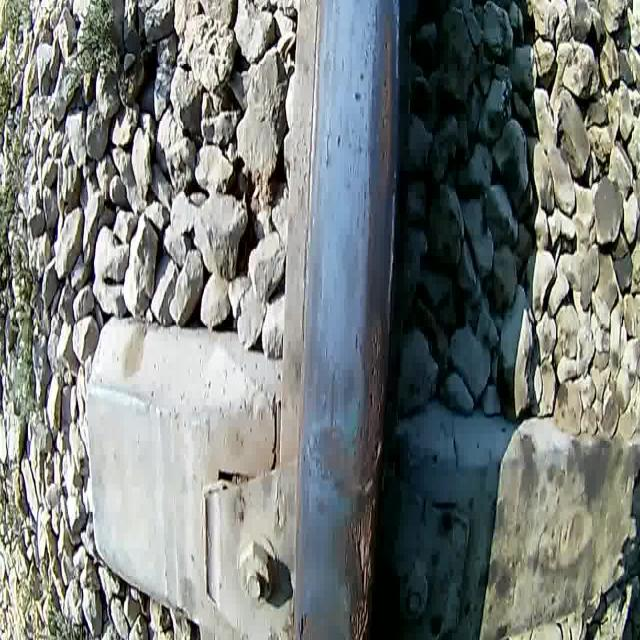Cracks: (294, 606, 313, 640)
Spallings: (343, 494, 378, 640), (362, 312, 386, 418), (356, 426, 384, 492)
Squats: (304, 301, 390, 640), (372, 7, 397, 204)
